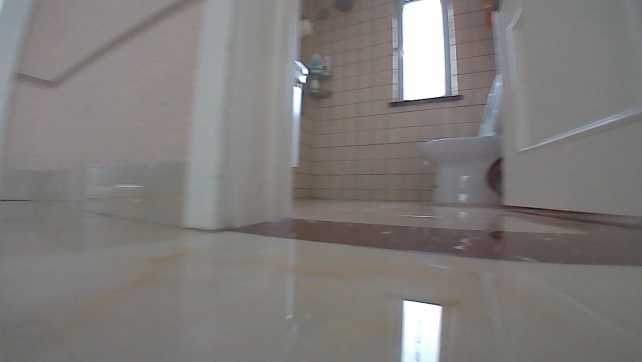door_sill: (237, 212, 640, 275)
toilet: (409, 75, 509, 210)
